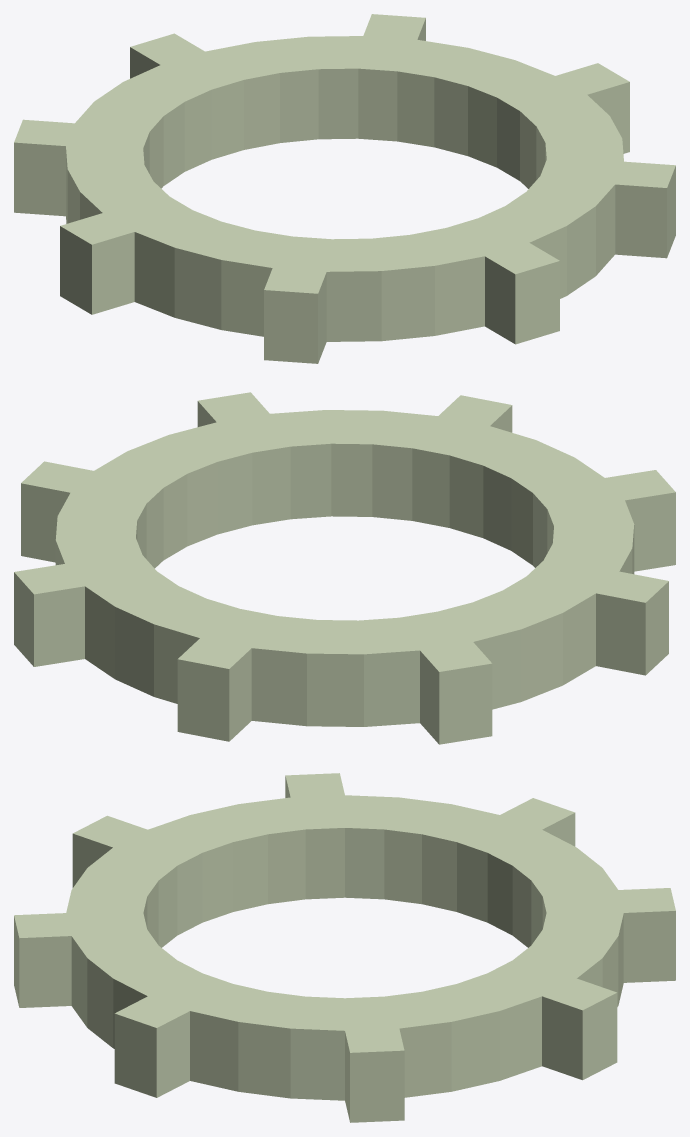
Rendered from Gear 2.fbx.
The picture shows the model from 3 angles, top to bottom: view 1: azimuth 30°, elevation 25°; view 2: azimuth 150°, elevation 25°; view 3: azimuth 270°, elevation 25°; orthographic projection. The views are drawn at different scales.
Parts seen in each view (by area): view 1: Circle; view 2: Circle; view 3: Circle.
Part boxes in pixels (x1,y1,x2,y2): Circle: [14, 14, 675, 363]; Circle: [14, 392, 675, 744]; Circle: [14, 773, 675, 1122].
Size of the model in its own units: 126 by 14.71 by 126.
